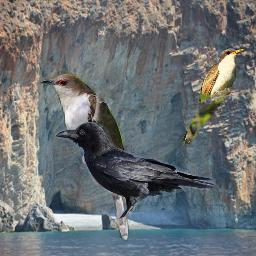Crow: (55, 122, 217, 222)
Cuckoo: (38, 72, 130, 242), (180, 46, 246, 146)
